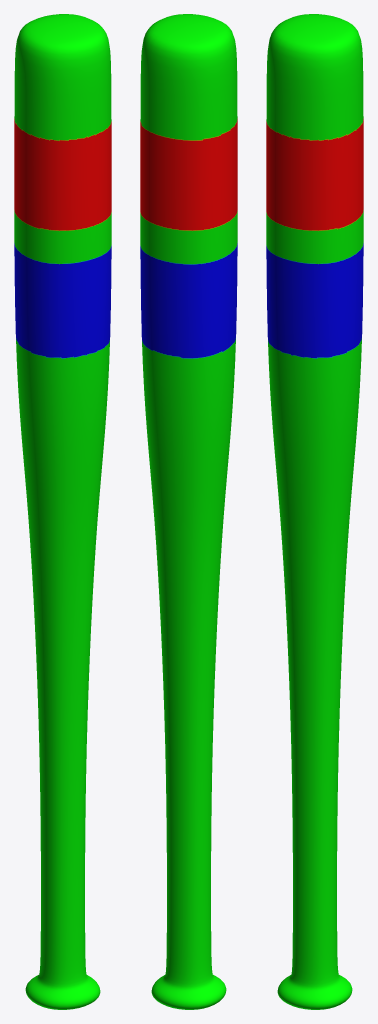
Rendered from BaseballBat.fbx.
3 views of the same model, side by side, from view 1: azimuth 30°, elevation 25°; view 2: azimuth 150°, elevation 25°; view 3: azimuth 330°, elevation 25° (orthographic).
Parts seen in each view (by area): view 1: Cube; view 2: Cube; view 3: Cube.
Boxes of the visible parts, bbox=[...] form: Cube: bbox=[14, 14, 111, 1009]; Cube: bbox=[140, 14, 237, 1009]; Cube: bbox=[266, 14, 363, 1009].
Size of the model in its own units: 7.67 by 86.42 by 7.67.
